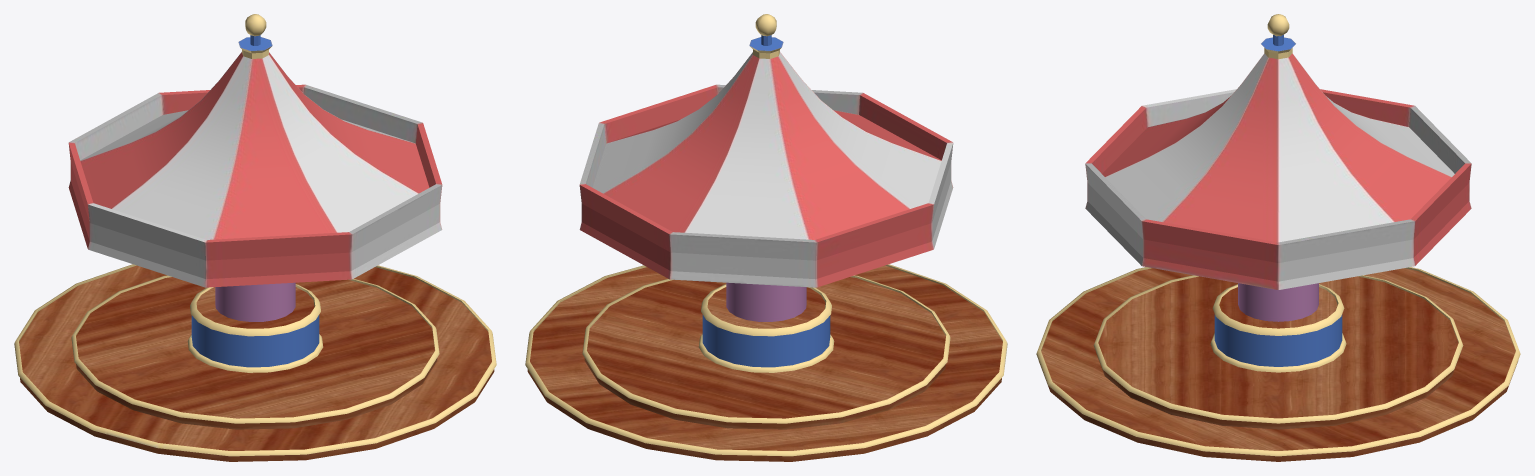
Rendered from carruselbase.obj.
3 renders of one model, left to right at view 1: azimuth 30°, elevation 25°; view 2: azimuth 150°, elevation 25°; view 3: azimuth 270°, elevation 25°, orthographic.
Parts seen in each view (by area): view 1: carousel_m_carousel; view 2: carousel_m_carousel; view 3: carousel_m_carousel.
Part boxes in pixels (x1,y1,x2,y2): carousel_m_carousel: [14, 14, 496, 461]; carousel_m_carousel: [525, 14, 1007, 461]; carousel_m_carousel: [1036, 14, 1520, 461].
Size of the model in its own units: 24.22 by 19.07 by 24.22.
